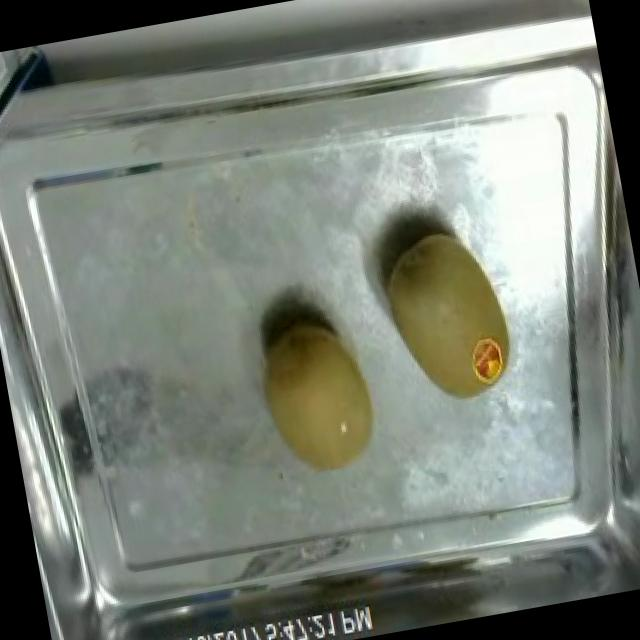Fruit: (366, 211, 530, 419), (242, 297, 392, 490)
